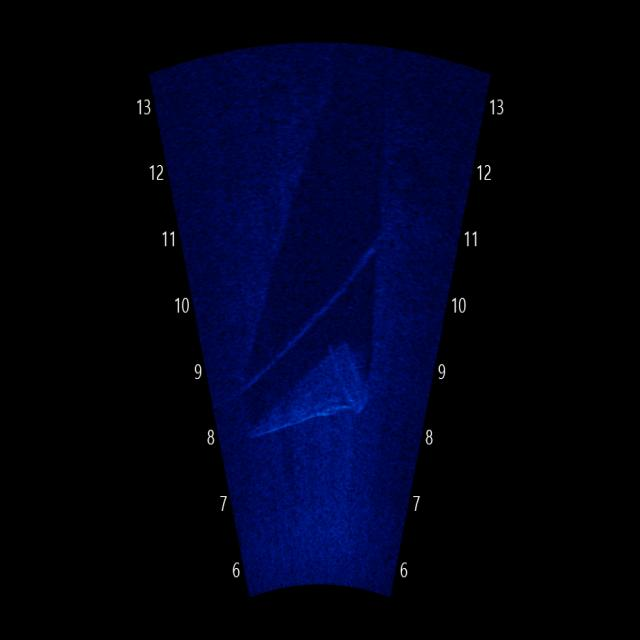circle: (384, 133, 433, 198), (258, 72, 297, 126)
triangle: (229, 330, 382, 442)
